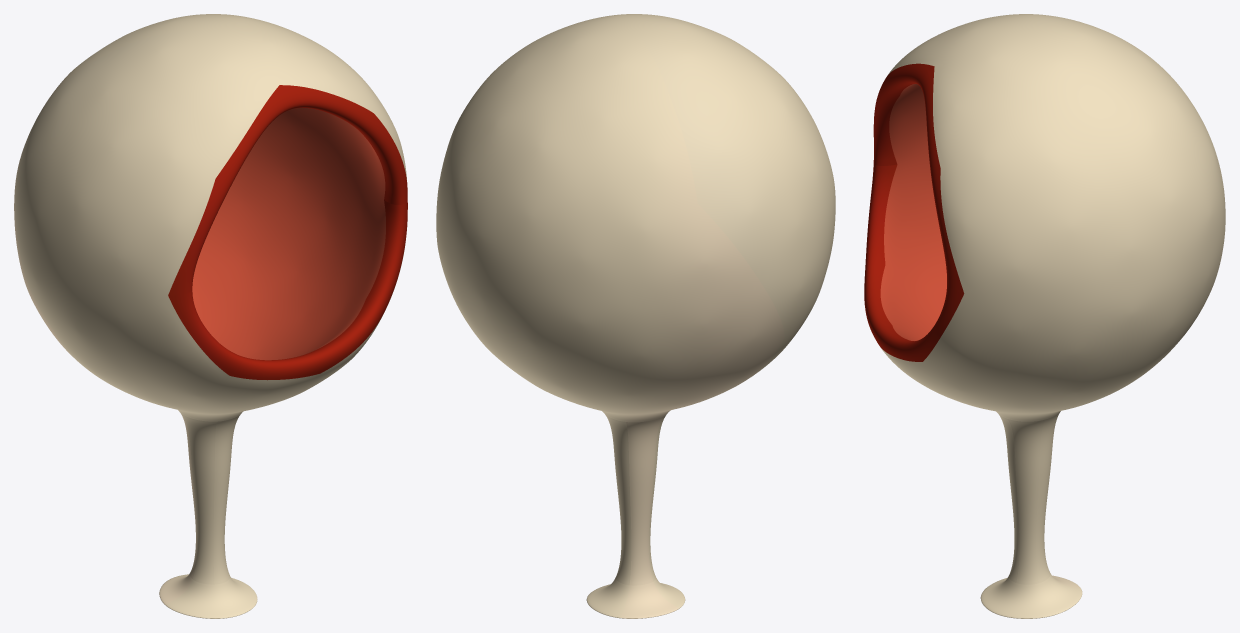
Rendered from Chair1.fbx.
3 renders of one model, left to right at view 1: azimuth 30°, elevation 25°; view 2: azimuth 150°, elevation 25°; view 3: azimuth 270°, elevation 25°, orthographic.
Parts seen in each view (by area): view 1: Stuhl4; view 2: Stuhl4; view 3: Stuhl4.
Part boxes in pixels (<box>): Stuhl4: <box>14,14,407,618</box>; Stuhl4: <box>436,14,835,618</box>; Stuhl4: <box>864,14,1225,618</box>.
Size of the model in its own units: 109 by 171 by 98.4.
